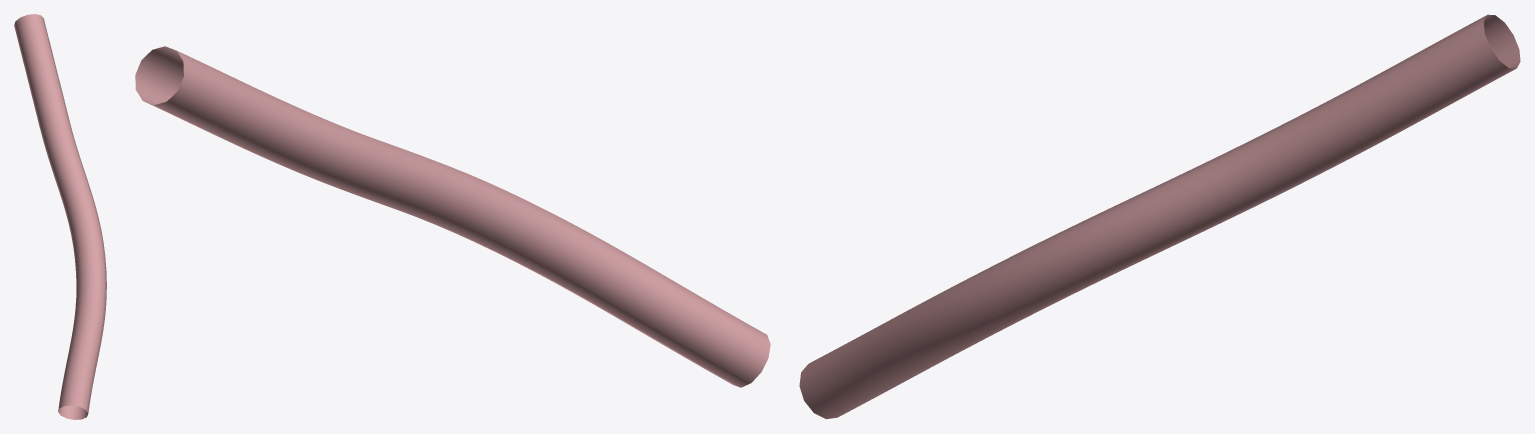
The picture shows the model from 3 angles, left to right: view 1: azimuth 30°, elevation 25°; view 2: azimuth 150°, elevation 25°; view 3: azimuth 270°, elevation 25°; orthographic projection. The views are drawn at different scales.
Visible parts, largest first — view 1: ZA_c90c452510a3361b; view 2: ZA_c90c452510a3361b; view 3: ZA_c90c452510a3361b.
Part boxes in pixels (x1=…): ZA_c90c452510a3361b: x1=14, y1=14, x2=106, y2=419; ZA_c90c452510a3361b: x1=135, y1=46, x2=770, y2=387; ZA_c90c452510a3361b: x1=799, y1=14, x2=1520, y2=419.
Bounding box in the file's own units: 0.00904 × 0.0149 × 0.0188.
